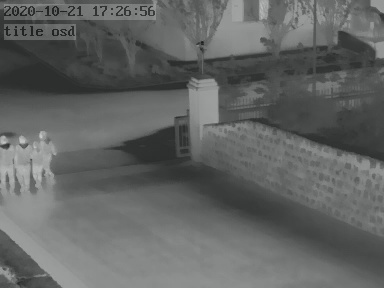person: (34, 129, 55, 186), (18, 134, 37, 191), (1, 136, 17, 193)
